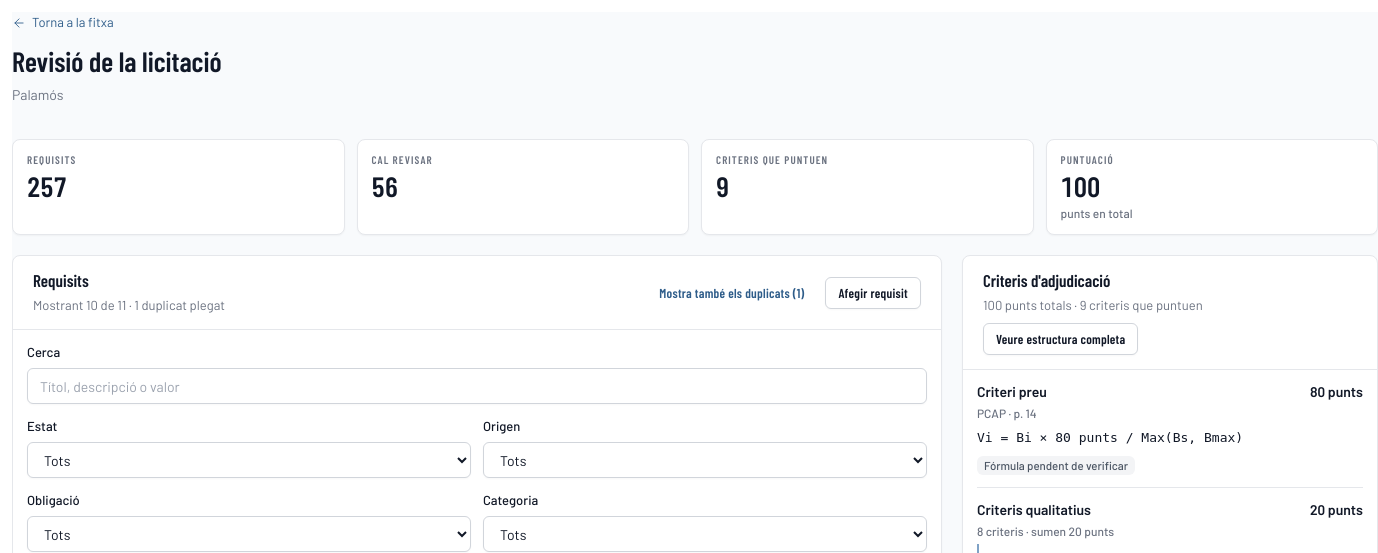
Duplicats i reiteracions a la llista › el duplicat es pot tornar a veure per auditar-lo
Click the button "Mostra també els duplicats (1)" at coordinates (732, 293), box left=646, top=277, right=817, bottom=309
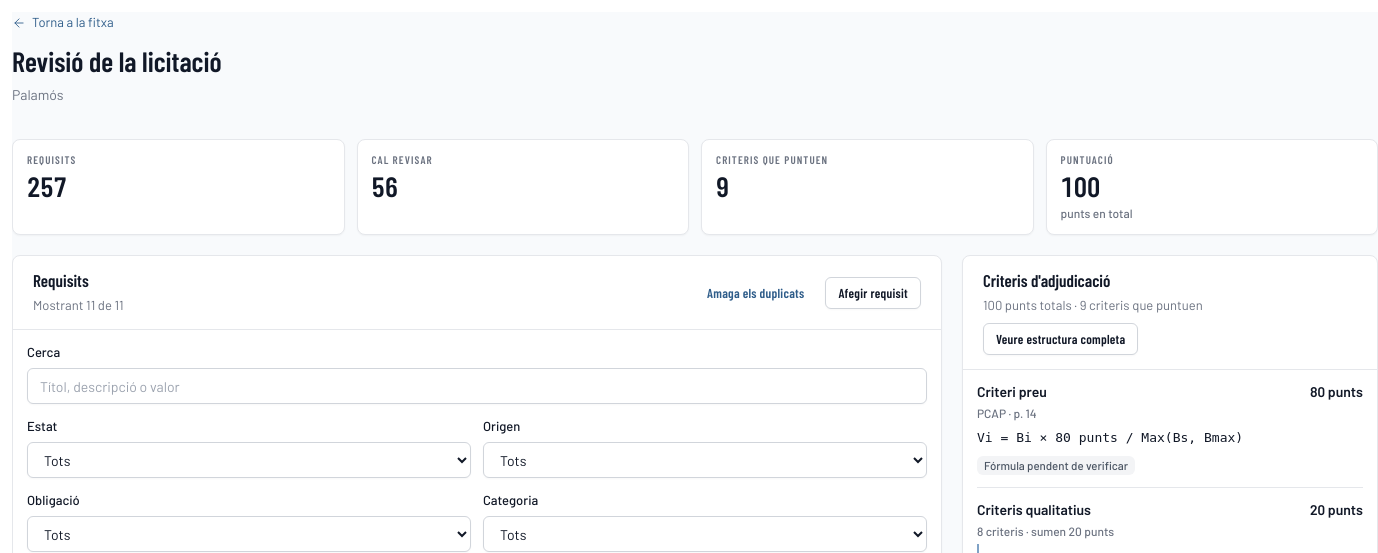
Check: the text "Mostrant 11 de 11" is shown, box left=33, top=295, right=124, bottom=315
